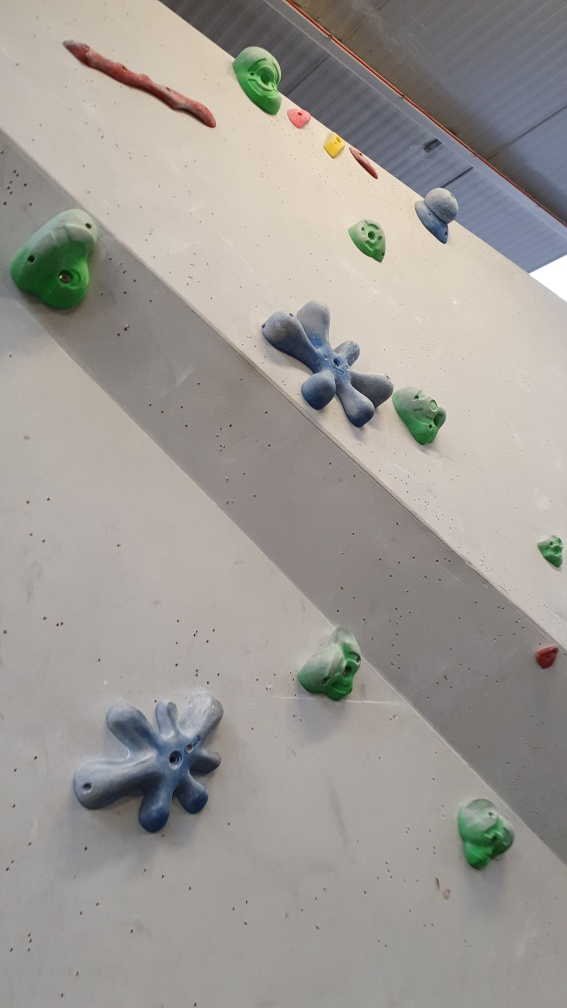Crimp: (352, 144, 380, 181), (288, 108, 313, 133)
Jug: (3, 202, 102, 318), (297, 622, 363, 708), (455, 794, 517, 874), (232, 38, 284, 116), (393, 382, 446, 453), (347, 215, 391, 264)
Octopus Pinch: (68, 690, 233, 842), (259, 293, 394, 423)
Sloper: (417, 182, 461, 245)
